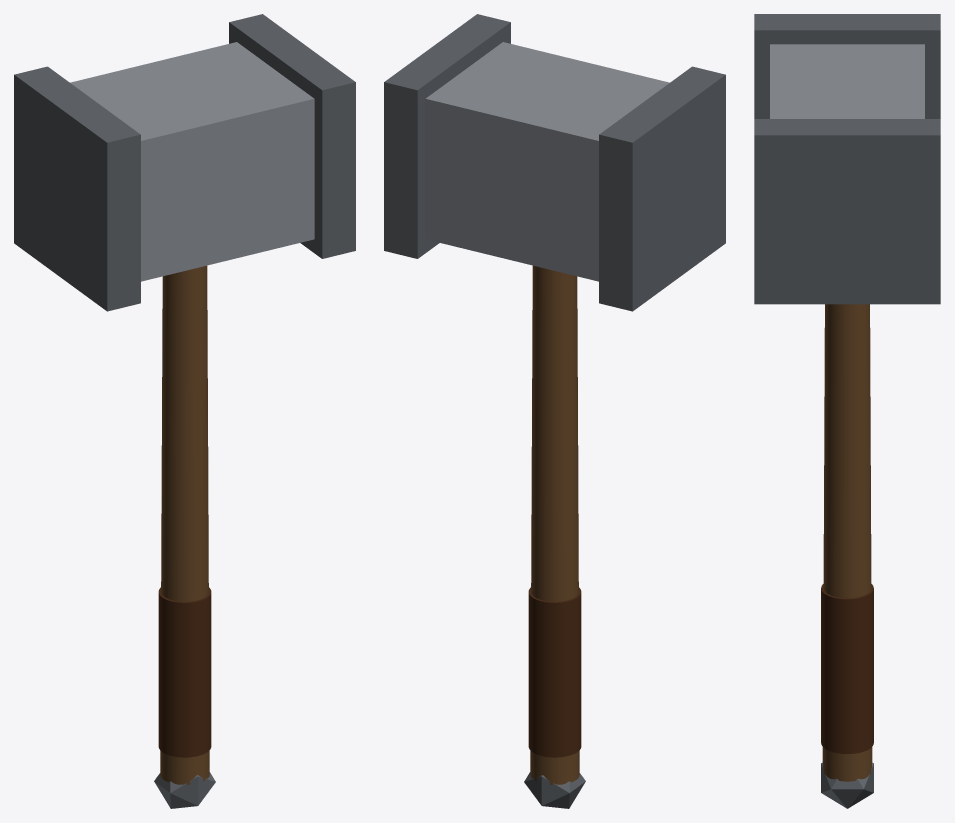
The model's file is iron_hammer.glb.
The picture shows the model from 3 angles, left to right: view 1: azimuth 30°, elevation 25°; view 2: azimuth 150°, elevation 25°; view 3: azimuth 270°, elevation 25°; orthographic projection.
Visible parts, largest first — view 1: ih_head, ih_cap2, ih_shaft, ih_cap1, ih_grip, ih_pommel; view 2: ih_head, ih_cap2, ih_shaft, ih_cap1, ih_grip, ih_pommel; view 3: ih_cap1, ih_shaft, ih_head, ih_grip, ih_cap2, ih_pommel.
Part boxes in pixels (x1,y1,x2,y2): ih_head: (70,42,314,281); ih_cap2: (14,66,140,311); ih_shaft: (160,265,209,784); ih_cap1: (229,14,355,258); ih_grip: (158,587,211,757); ih_pommel: (154,772,215,808); ih_head: (425,42,669,281); ih_cap2: (599,66,725,311); ih_shaft: (530,265,579,784); ih_cap1: (384,14,510,258); ih_grip: (528,587,581,757); ih_pommel: (524,772,585,808); ih_cap1: (754,119,940,304); ih_shaft: (822,304,872,781); ih_head: (770,44,924,118); ih_grip: (821,584,873,753); ih_cap2: (754,14,940,118); ih_pommel: (821,762,873,808).
Bounding box in the file's own units: 0.37 × 1.03 × 0.24.
